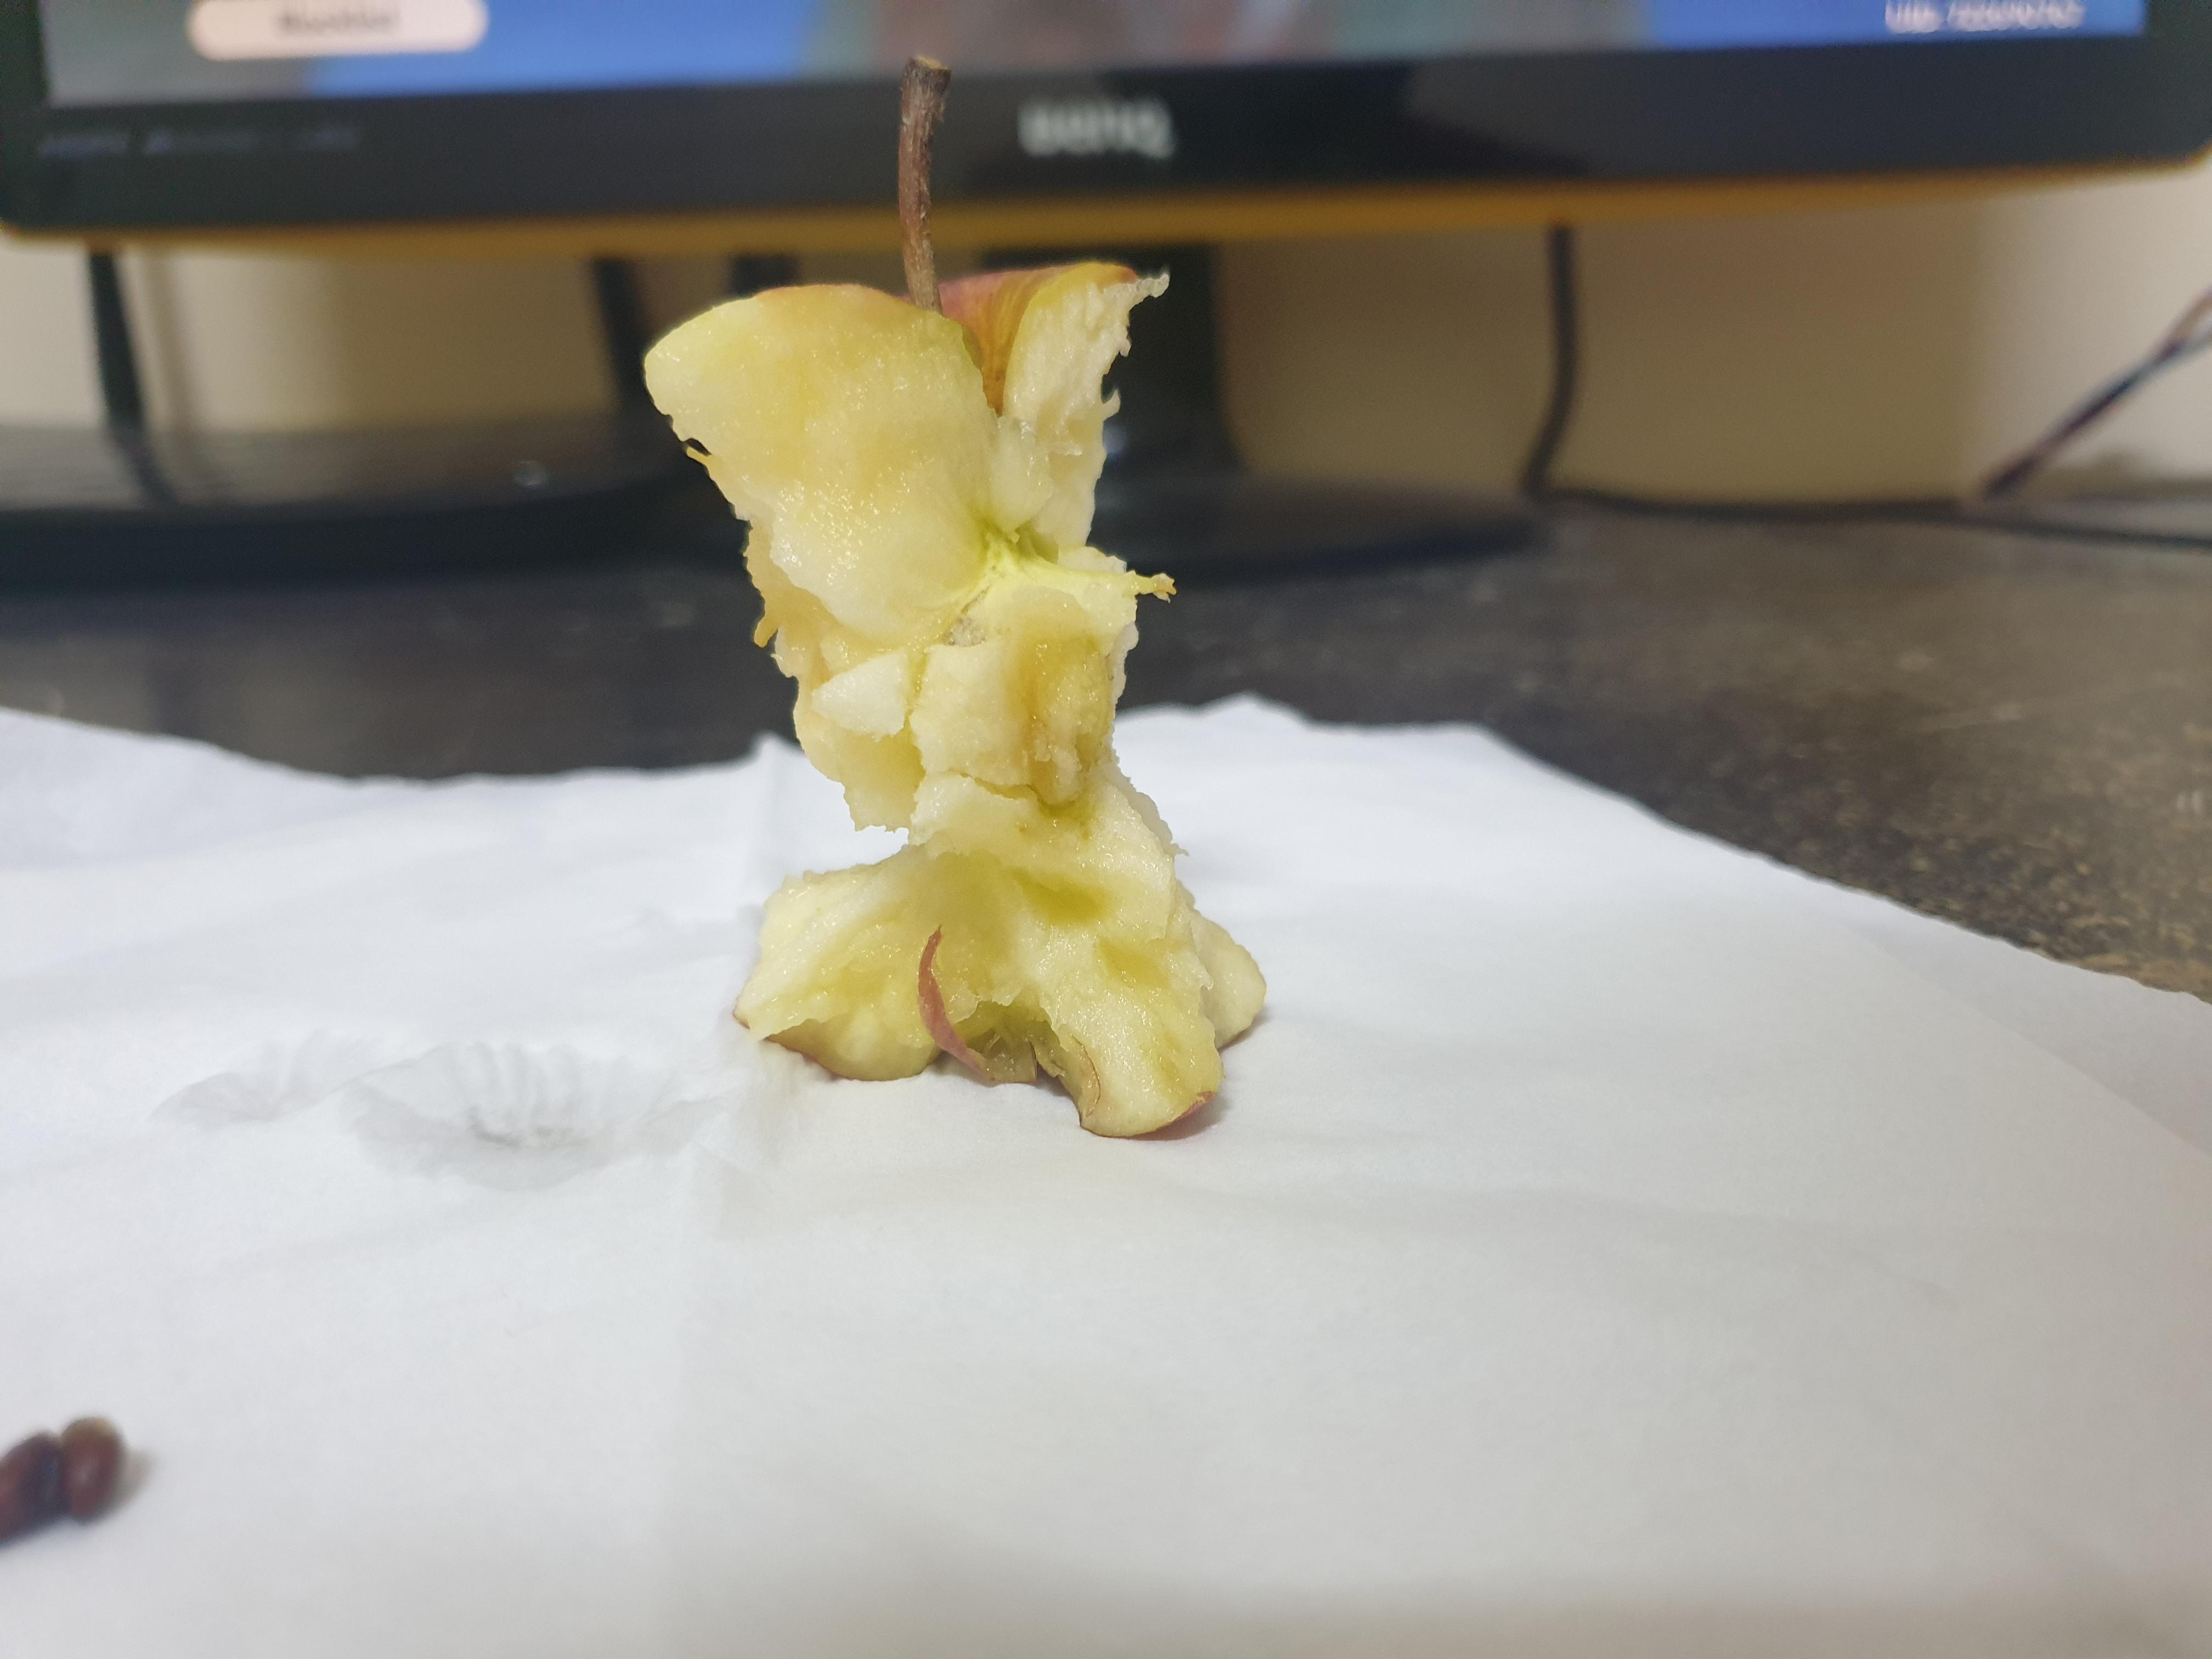Apple: (629, 44, 1291, 1178)
